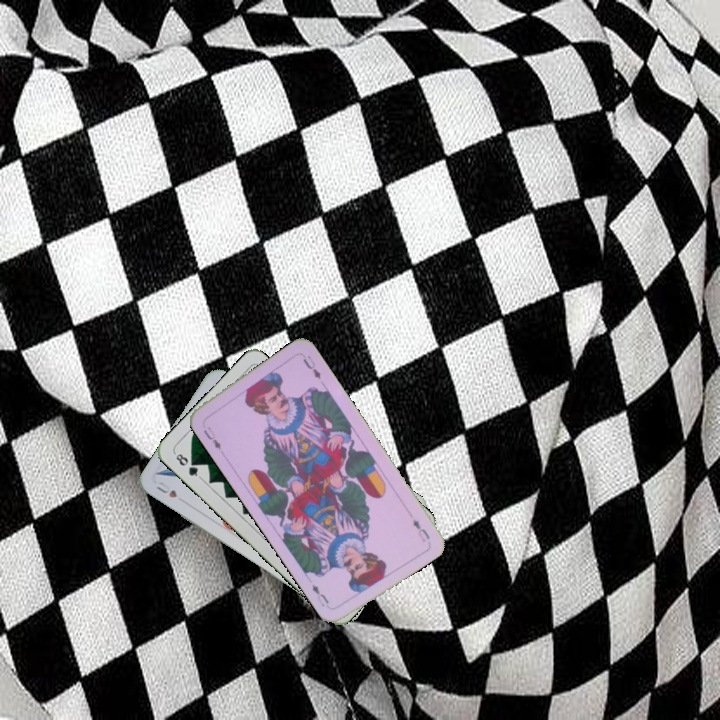EU: (199, 422, 224, 452), (408, 515, 432, 544)
G8: (171, 449, 203, 480)
HU: (152, 477, 180, 501)
